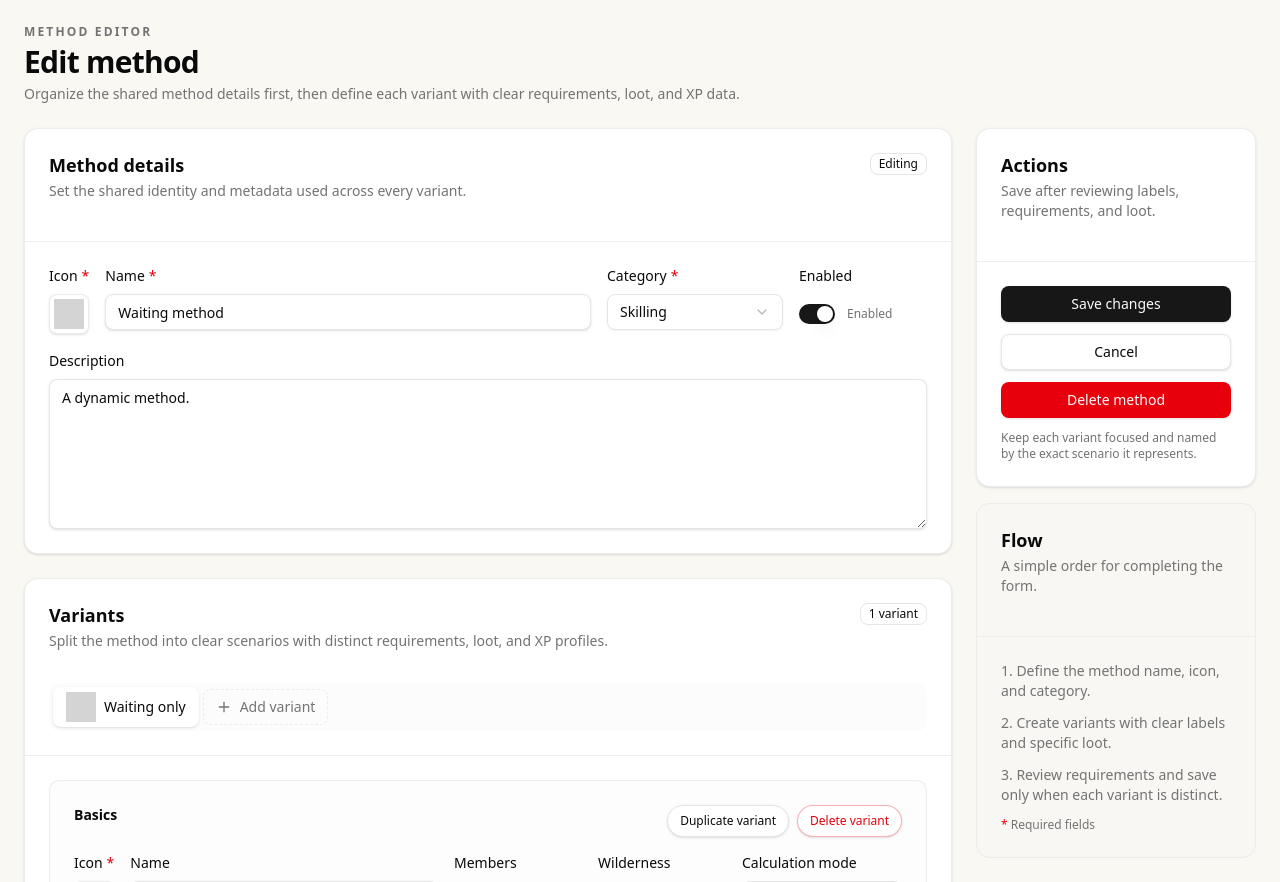
Test case: critical flow: create/edit form validations › does not submit a dynamic cycle without an action-generating step
Click the button "Save changes" at (1116, 304), box [1001, 286, 1231, 322]
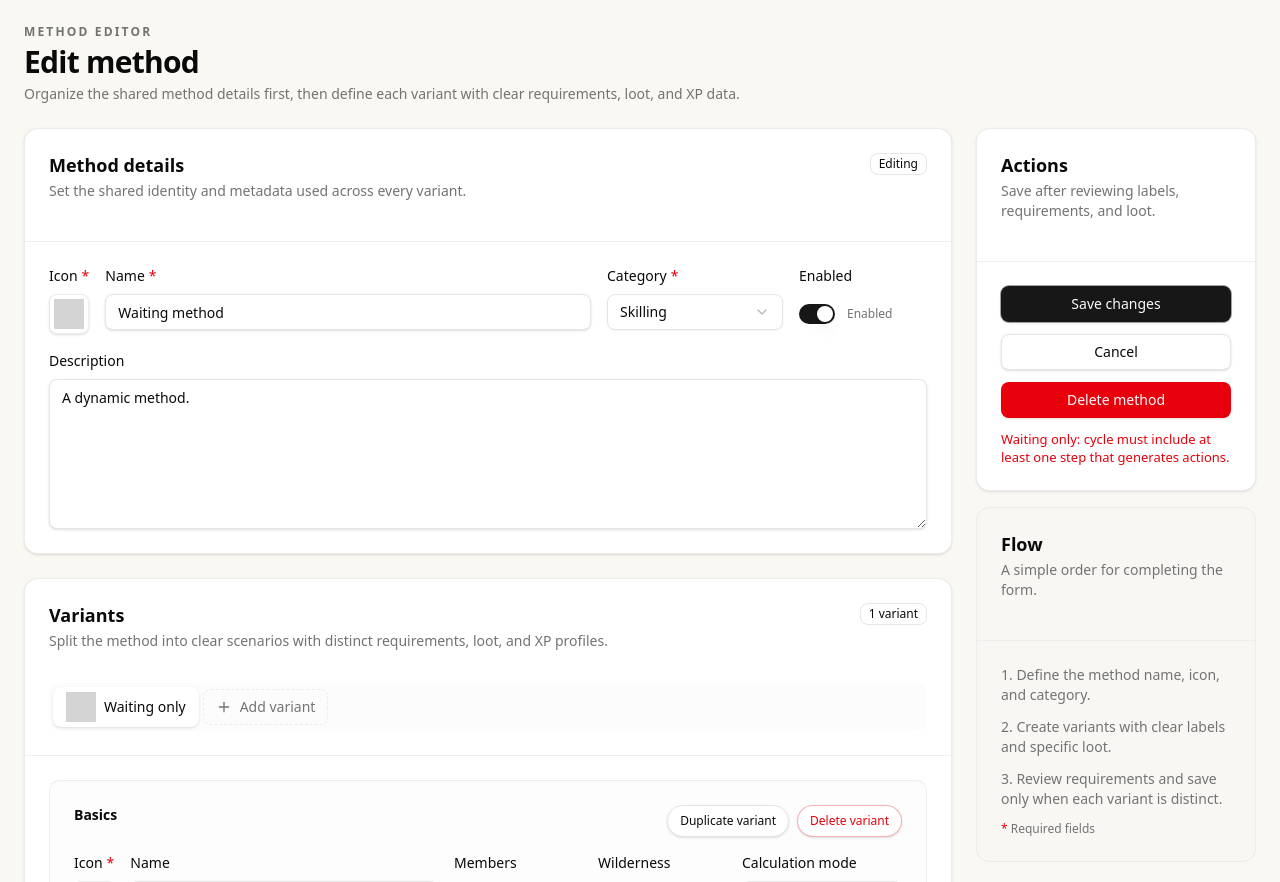
Expected: the text "Waiting only: cycle must include at least one step that generates actions." is shown, [1001, 430, 1231, 466]
